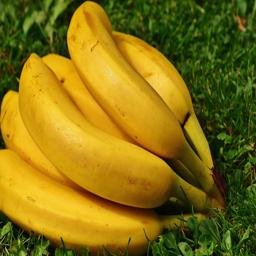Banana Fresh: (17, 40, 178, 214), (68, 1, 220, 177)
